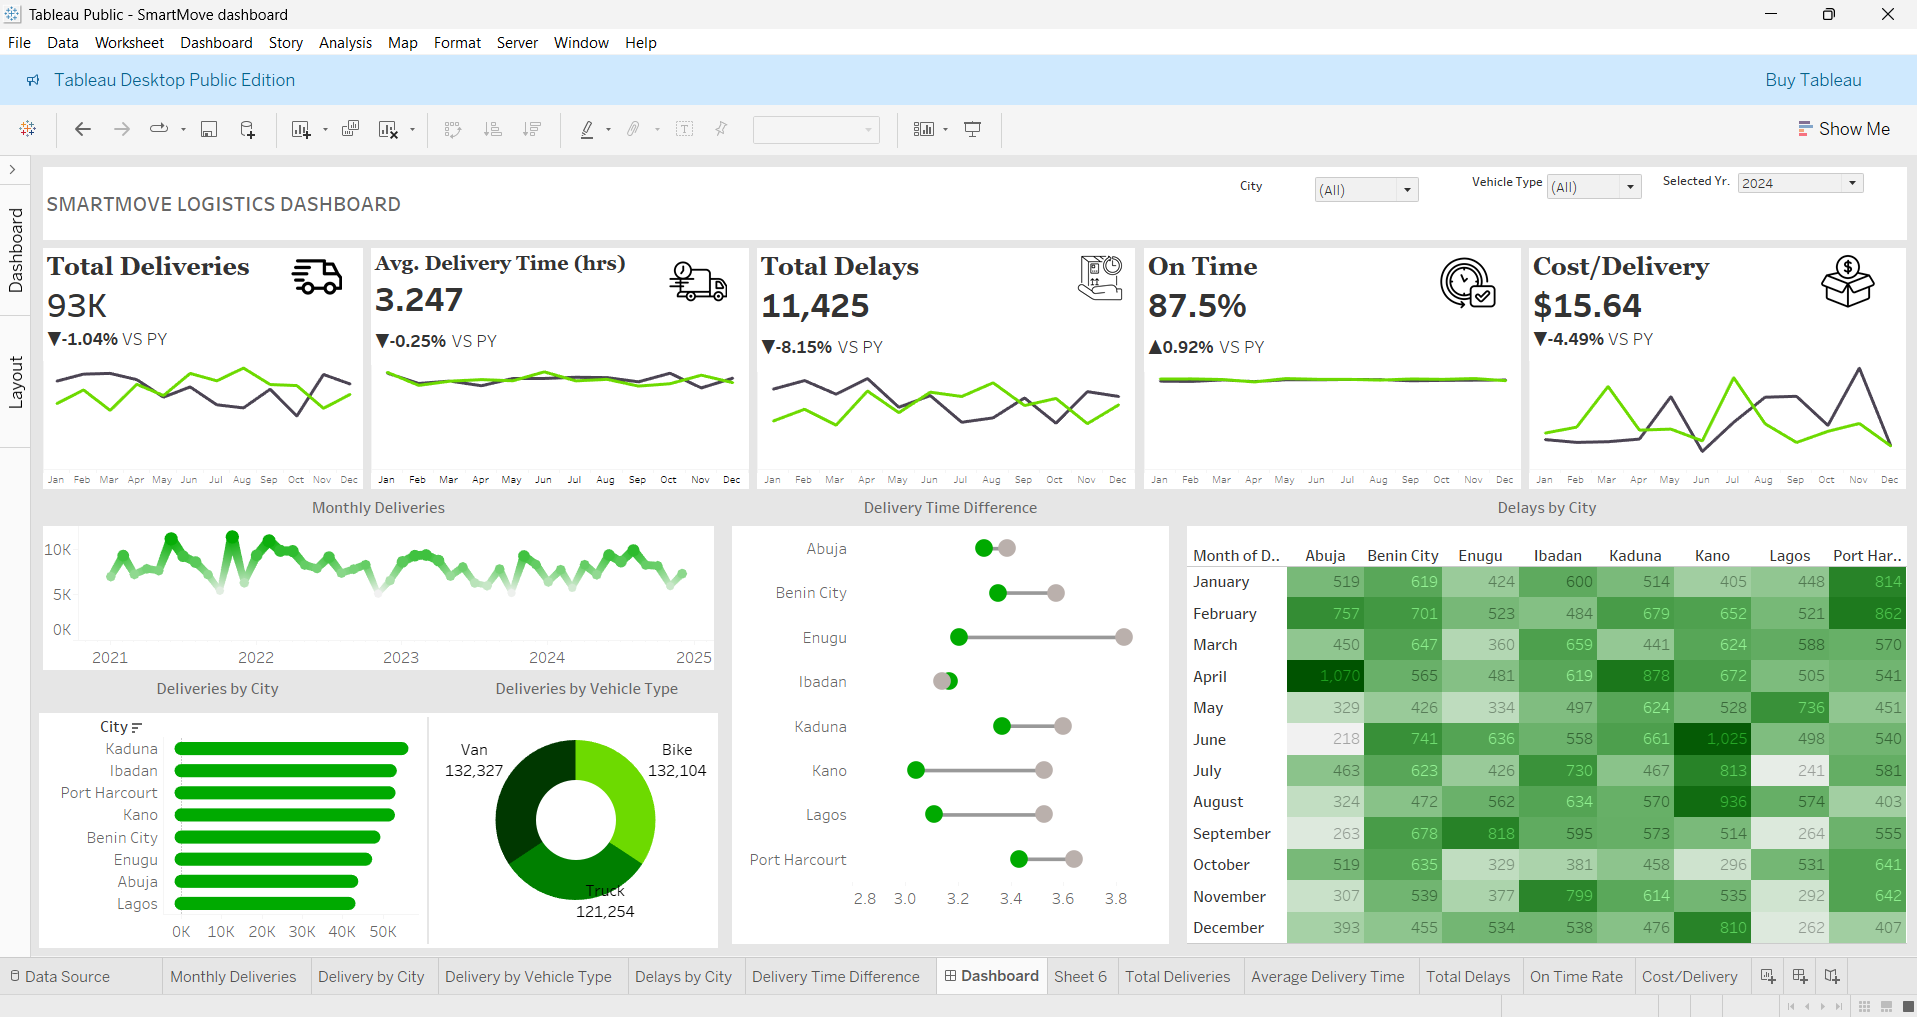

This screenshot's page, from the dashboard's own definition file:
{"tool":"tableau","page":{"name":"Dashboard","canvas":[1000,1000],"units":"permille","ordinal":0},"visuals":[{"type":"text","box":[4.8,10,990.3,101.1]},{"type":"parameter","param":"[Parameters].[Parameter 1]","box":[864.2,18.7,108,44.9]},{"type":"filter","title":"Monthly Deliveries","param":"[federated.18v3ph20j4hos915568uf1y83y48].[none:Vehicle_Type:nk]","box":[763.4,20,91.7,42.5]},{"type":"filter","title":"Monthly Deliveries","param":"[federated.18v3ph20j4hos915568uf1y83y48].[none:City:nk]","box":[640.3,25,96.6,36.2]},{"type":"worksheet","title":"Total Deliveries","mark":"Automatic","cols":["Date"],"box":[4.8,111.1,198,310.9]},{"type":"worksheet","title":"Average Delivery Time","mark":"Automatic","cols":["Date"],"box":[202.8,111.1,198,310.9]},{"type":"worksheet","title":"Total Delays","mark":"Automatic","cols":["Date"],"box":[400.8,111.1,198,310.9]},{"type":"worksheet","title":"On Time Rate","mark":"Automatic","cols":["Date"],"box":[598.8,111.1,198,310.9]},{"type":"worksheet","title":"Cost/Delivery","mark":"Automatic","cols":["Date"],"box":[796.8,111.1,198,310.9]},{"type":"image","param":"Image/fast-delivery.png","box":[360.9,116.1,34.4,72.4]},{"type":"image","param":"Image/cost.png","box":[946.3,118.6,38,73.7]},{"type":"image","param":"Image/delivery.png","box":[137.7,119.9,32.8,63.7]},{"type":"image","param":"Image/delay.png","box":[552.8,122.4,38,61.2]},{"type":"image","param":"Image/on-time.png","box":[745.3,122.4,39.2,73.7]},{"type":"text","box":[4.8,422,409.8,36.2]},{"type":"blank","box":[414.6,422,6,568]},{"type":"text","box":[420.7,422,268.6,36.2]},{"type":"blank","box":[689.2,422,6,568]},{"type":"text","box":[695.2,422,299.9,36.2]},{"type":"worksheet","title":"Monthly Deliveries","mark":"Automatic","rows":["Deliveries"],"cols":["Date"],"box":[4.8,458.2,409.8,189.8]},{"type":"worksheet","title":"Delivery Time Difference","mark":"Circle","rows":["City"],"box":[420.7,458.2,268.6,531.8]},{"type":"worksheet","title":"Delays by City","mark":"Automatic","rows":["Date"],"cols":["City"],"box":[695.2,458.2,299.9,531.7]},{"type":"text","box":[4.8,647.9,409.8,36.2]},{"type":"blank","box":[4.8,684.1,409.8,12.5]},{"type":"worksheet","title":"Delivery by City","mark":"Line","rows":["City"],"box":[4.8,696.6,231.8,293.3]},{"type":"blank","box":[236.6,696.6,6,293.3]},{"type":"worksheet","title":"Delivery by Vehicle Type","mark":"Pie","cols":["Calculation_634444618371641349","Calculation_634444618371641349"],"box":[242.6,696.6,172,293.3]}]}

Visuals, with their boxes on the dashboard's canvas, which has no fixed pixel size, in thousandths of its width and height (x1, y1, x2, y2). These are canvas units, not pixel positions in the 1917x1017 screenshot, which may show the page scaled, cropped or inside an application window:
text: region(5, 10, 995, 111)
parameter: region(864, 19, 972, 64)
"Monthly Deliveries" filter: region(763, 20, 855, 62)
"Monthly Deliveries" filter: region(640, 25, 737, 61)
"Total Deliveries" worksheet: region(5, 111, 203, 422)
"Average Delivery Time" worksheet: region(203, 111, 401, 422)
"Total Delays" worksheet: region(401, 111, 599, 422)
"On Time Rate" worksheet: region(599, 111, 797, 422)
"Cost/Delivery" worksheet: region(797, 111, 995, 422)
image: region(361, 116, 395, 188)
image: region(946, 119, 984, 192)
image: region(138, 120, 170, 184)
image: region(553, 122, 591, 184)
image: region(745, 122, 784, 196)
text: region(5, 422, 415, 458)
blank: region(415, 422, 421, 990)
text: region(421, 422, 689, 458)
blank: region(689, 422, 695, 990)
text: region(695, 422, 995, 458)
"Monthly Deliveries" worksheet: region(5, 458, 415, 648)
"Delivery Time Difference" worksheet (Circle marks): region(421, 458, 689, 990)
"Delays by City" worksheet: region(695, 458, 995, 990)
text: region(5, 648, 415, 684)
blank: region(5, 684, 415, 697)
"Delivery by City" worksheet (Line marks): region(5, 697, 237, 990)
blank: region(237, 697, 243, 990)
"Delivery by Vehicle Type" worksheet (Pie marks): region(243, 697, 415, 990)
